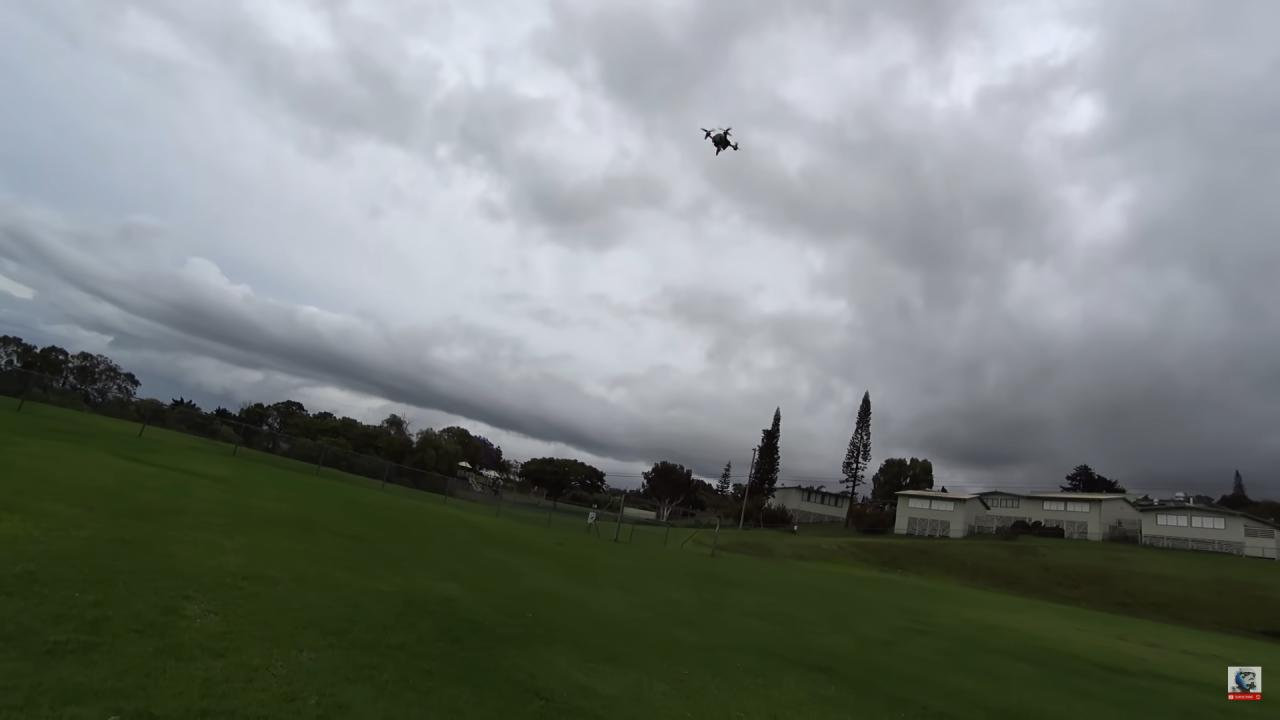Drone: (694, 120, 747, 159)
